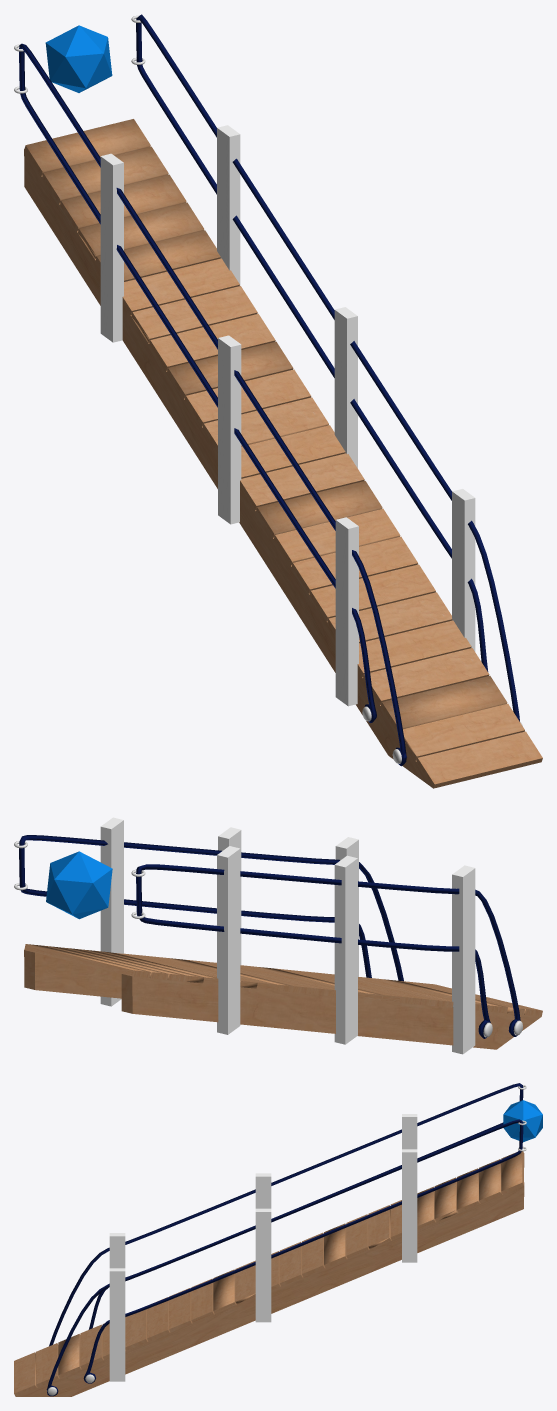
The model's file is Gangplank 5'.glb.
3 views of the same model, one above another, from view 1: azimuth 30°, elevation 25°; view 2: azimuth 150°, elevation 25°; view 3: azimuth 270°, elevation 25° (orthographic). The views are drawn at different scales.
Visible parts, largest first — view 1: Plane.033, Plane.001, Joint.006; view 2: Plane.033, Plane.001, Joint.006; view 3: Plane.033, Plane.001, Joint.006.
Boxes of the visible parts, x1,y1,x2,y2 form: Plane.033: (14,14,542,788); Plane.001: (100,125,475,706); Joint.006: (45,25,112,92); Plane.033: (14,835,542,1049); Plane.001: (100,817,475,1054); Joint.006: (46,851,112,919); Plane.033: (14,1083,526,1396); Plane.001: (109,1114,417,1381); Joint.006: (503,1100,542,1142).
Bounding box in the file's own units: 0.6083 × 2.02 × 3.46.
Materials: 5 (2 with a texture image).
